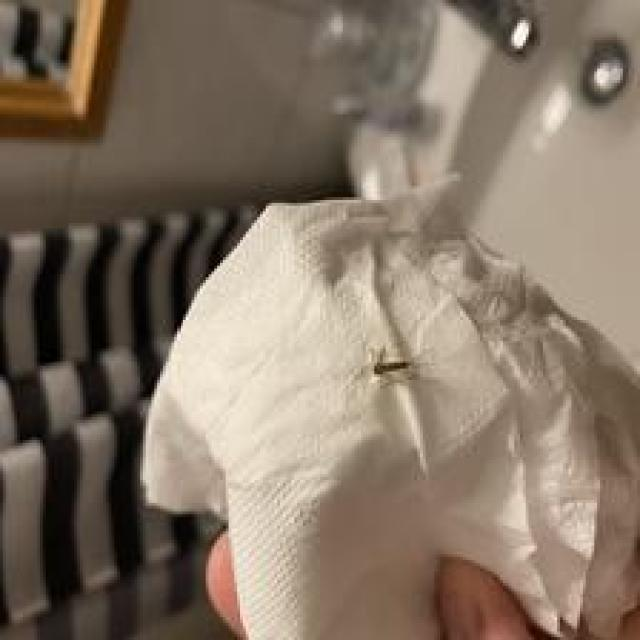Culex: (137, 168, 640, 640)
